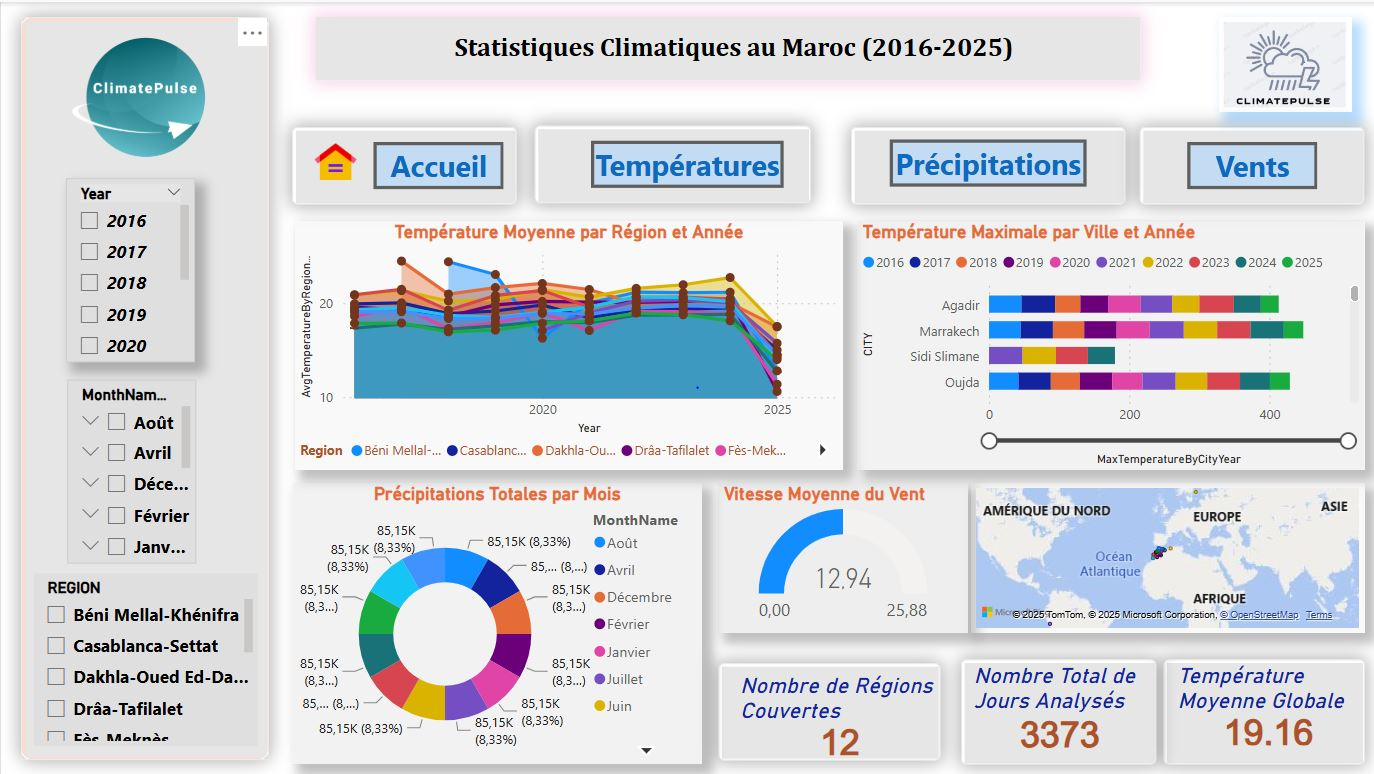

What the dashboard file says about the page in this screenshot:
{"tool":"powerbi","page":{"name":"Accueil","canvas":[1280,720],"ordinal":0},"visuals":[{"type":"shape","box":[18.1,14.2,230.8,691.1],"z":0},{"type":"shape","box":[292.7,14.2,767.1,59.3],"z":1000},{"type":"textbox","box":[292.7,21.9,777.4,42.5],"z":2000},{"type":"shape","box":[270.8,116,208.9,72.2],"z":3000},{"type":"image","box":[286.2,125.1,50.3,49],"z":4000},{"type":"actionButton","title":"Accueil","box":[346.8,130.2,121.2,43.8],"z":5000},{"type":"shape","box":[496.4,114.7,256.6,72.2],"z":6000},{"type":"actionButton","title":"Accueil","box":[549.2,128.9,179.2,43.8],"z":7000},{"type":"shape","box":[790.3,116,255.3,72.2],"z":8000},{"type":"actionButton","title":"Accueil","box":[826.4,127.6,183.1,43.8],"z":10000},{"type":"shape","box":[1059.5,115.8,208.9,72.2],"z":11000},{"type":"actionButton","title":"Accueil","box":[1103.6,130.2,121.2,43.8],"z":12000},{"type":"shape","box":[1081.7,611.1,186.9,98],"z":13000},{"type":"card","title":"Température Moyenne Globale","fields":{"Values":["WEATHER_DATA.GlobalAvgTemperature"]},"box":[1089.4,613.7,179.2,82.5],"z":14000},{"type":"image","box":[29.7,14.2,208.9,149.6],"z":15000},{"type":"image","box":[1132,14.2,123.8,89],"z":16000},{"type":"shape","box":[893.5,611.1,181.8,98],"z":17000},{"type":"card","title":"Nombre Total de Jours Analysés","fields":{"Values":["WEATHER_DATA.TotalDays"]},"box":[899.9,613.7,170.2,86.4],"z":18000},{"type":"lineChart","title":"Température Moyenne par Région et Année","fields":{"Category":["WEATHER_DATA.Year"],"Y":["WEATHER_DATA.AvgTemperatureByRegionYear"],"Series":["WEATHER_DATA.REGION"]},"box":[273.3,203.7,510.6,232.1],"z":19000},{"type":"shape","box":[667.9,615,206.3,90.3],"z":20000},{"type":"card","title":"Nombre de Régions Couvertes","fields":{"Values":["WEATHER_DATA.TotalRegions"]},"box":[682,622.7,196,82.5],"z":21000},{"type":"donutChart","title":"Précipitations Totales par Mois","fields":{"Y":["WEATHER_DATA.TotalPrecipitationByRegionMonth"],"Category":["WEATHER_DATA.MonthName"]},"box":[270.8,447.4,381.6,261.7],"z":22000},{"type":"barChart","title":"Température Maximale par Ville et Année","fields":{"Category":["WEATHER_DATA.CITY"],"Y":["WEATHER_DATA.MaxTemperatureByCityYear"],"Series":["WEATHER_DATA.Year"]},"box":[796.8,203.7,471.9,232.1],"z":23000},{"type":"gauge","title":"Vitesse Moyenne du Vent","fields":{"Y":["WEATHER_DATA.AvgWindSpeedByRegionSeason"]},"box":[667.9,447.4,232.1,139.2],"z":24000},{"type":"slicer","fields":{"Values":["WEATHER_DATA.Year"]},"box":[60.6,163.7,119.9,171.5],"z":25000},{"type":"slicer","fields":{"Values":["WEATHER_DATA.MonthName","WEATHER_DATA.Month"]},"box":[61.9,350.7,119.9,171.5],"z":26000},{"type":"slicer","fields":{"Values":["WEATHER_DATA.REGION"]},"box":[29.7,531.2,208.9,161.2],"z":27000},{"type":"map","fields":{"Category":["WEATHER_DATA.CITY"],"Series":["WEATHER_DATA.REGION"]},"box":[902.5,447.4,366.2,139.2],"z":28000}]}

Visuals, with their boxes on the page's 1280x720 design canvas (x1, y1, x2, y2). These are canvas units, not pixel positions in the 1374x774 screenshot, which may show the page scaled, cropped or inside an application window:
shape: box(18, 14, 249, 705)
shape: box(293, 14, 1060, 74)
textbox: box(293, 22, 1070, 64)
shape: box(271, 116, 480, 188)
image: box(286, 125, 336, 174)
"Accueil" actionButton: box(347, 130, 468, 174)
shape: box(496, 115, 753, 187)
"Accueil" actionButton: box(549, 129, 728, 173)
shape: box(790, 116, 1046, 188)
"Accueil" actionButton: box(826, 128, 1010, 171)
shape: box(1060, 116, 1268, 188)
"Accueil" actionButton: box(1104, 130, 1225, 174)
shape: box(1082, 611, 1269, 709)
"Température Moyenne Globale" card: box(1089, 614, 1269, 696)
image: box(30, 14, 239, 164)
image: box(1132, 14, 1256, 103)
shape: box(894, 611, 1075, 709)
"Nombre Total de Jours Analysés" card: box(900, 614, 1070, 700)
"Température Moyenne par Région et Année" lineChart: box(273, 204, 784, 436)
shape: box(668, 615, 874, 705)
"Nombre de Régions Couvertes" card: box(682, 623, 878, 705)
"Précipitations Totales par Mois" donutChart: box(271, 447, 652, 709)
"Température Maximale par Ville et Année" barChart: box(797, 204, 1269, 436)
"Vitesse Moyenne du Vent" gauge: box(668, 447, 900, 587)
slicer - WEATHER_DATA.Year: box(61, 164, 180, 335)
slicer - WEATHER_DATA.MonthName x WEATHER_DATA.Month: box(62, 351, 182, 522)
slicer - WEATHER_DATA.REGION: box(30, 531, 239, 692)
map - WEATHER_DATA.CITY x WEATHER_DATA.REGION: box(902, 447, 1269, 587)
